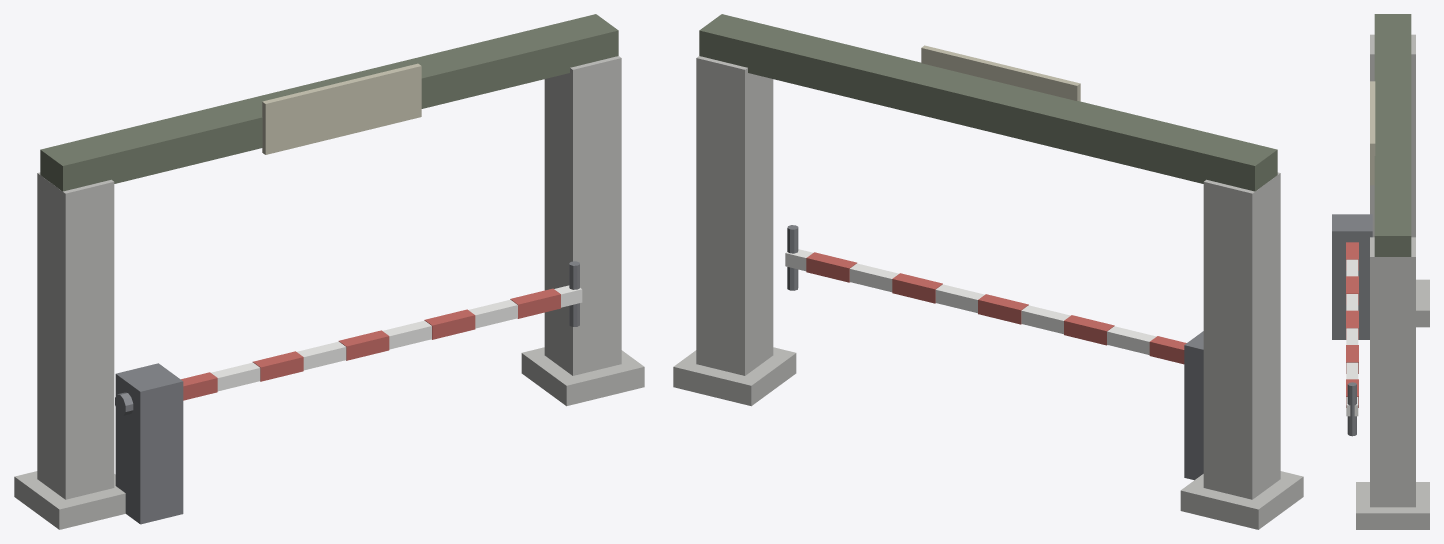
File: camp-gate.glb
3 renders of one model, left to right at view 1: azimuth 30°, elevation 25°; view 2: azimuth 150°, elevation 25°; view 3: azimuth 270°, elevation 25°, orthographic. The views are drawn at different scales.
Visible parts, largest first — view 1: camp-gate, barrier (×3); view 2: camp-gate, barrier (×2); view 3: camp-gate, barrier (×3).
Boxes of the visible parts, x1,y1,x2,y2 form: camp-gate: (14,14,644,529); barrier (×3): (115,261,582,415); camp-gate: (673,14,1303,529); barrier (×2): (785,249,1186,364); camp-gate: (1332,14,1429,529); barrier (×3): (1346,242,1358,436).
Size of the model in its own units: 6 by 3.6 by 1.06.
